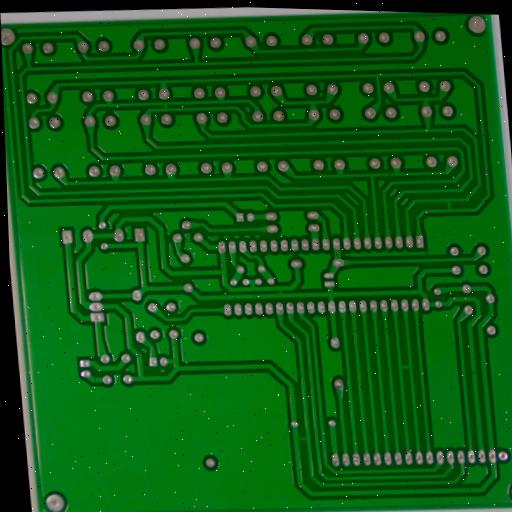short_circuit: (291, 433, 311, 447), (442, 196, 456, 216), (396, 360, 414, 375), (275, 284, 288, 301), (160, 101, 171, 113)
